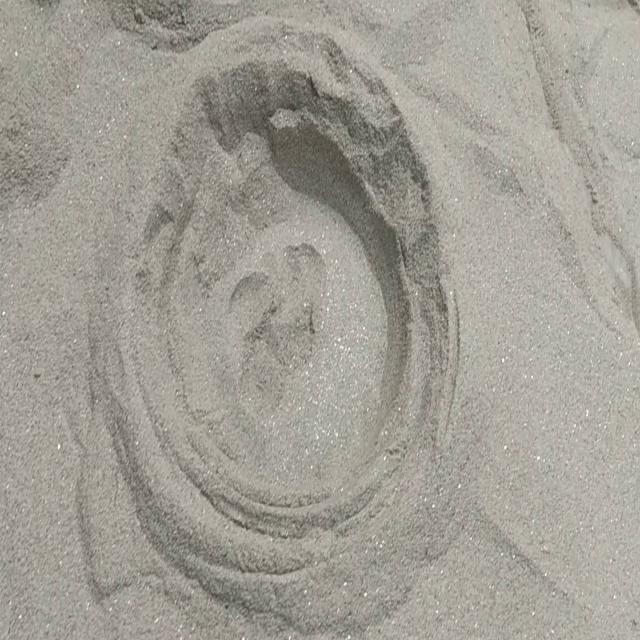C20: (115, 29, 449, 540)
